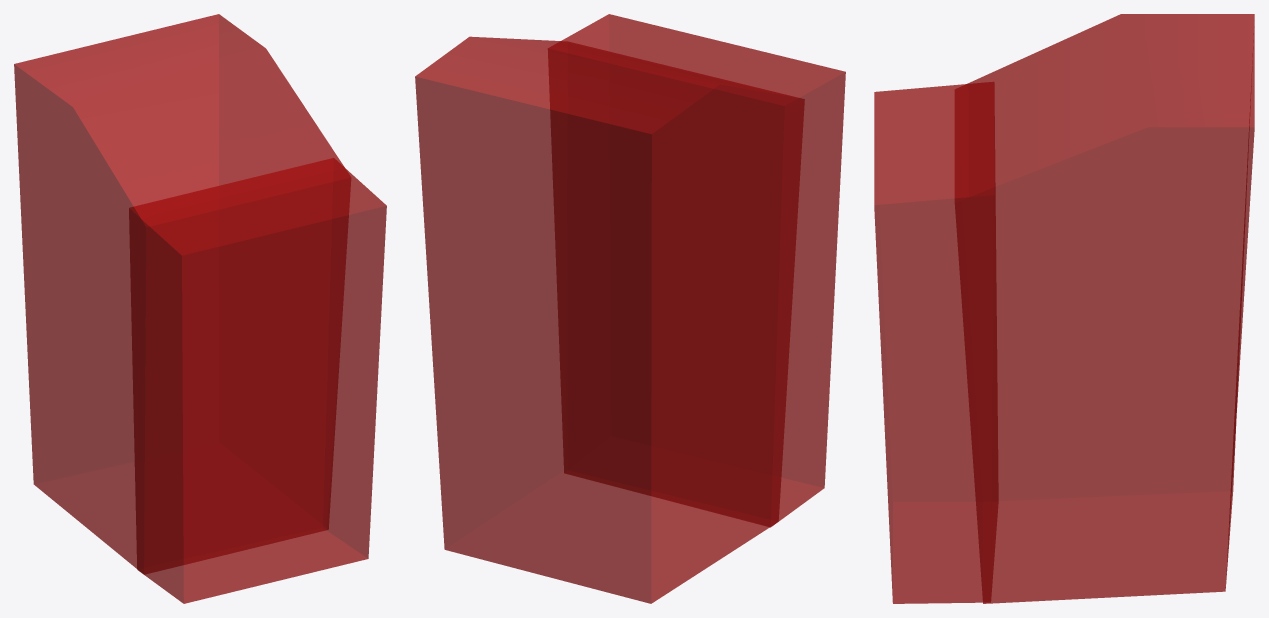
File: SM_Env_Rock_Stairs_03_Collision.fbx
The picture shows the model from 3 angles, left to right: view 1: azimuth 30°, elevation 25°; view 2: azimuth 150°, elevation 25°; view 3: azimuth 270°, elevation 25°; orthographic projection. The views are drawn at different scales.
Visible parts, largest first — view 1: SM_Env_Rock_Stairs_03_Collision; view 2: SM_Env_Rock_Stairs_03_Collision; view 3: SM_Env_Rock_Stairs_03_Collision.
Part boxes in pixels (x1,y1,x2,y2): SM_Env_Rock_Stairs_03_Collision: (14,14,386,603); SM_Env_Rock_Stairs_03_Collision: (415,14,845,603); SM_Env_Rock_Stairs_03_Collision: (874,14,1254,603).
Bounding box in the file's own units: 317 × 630 × 450.
